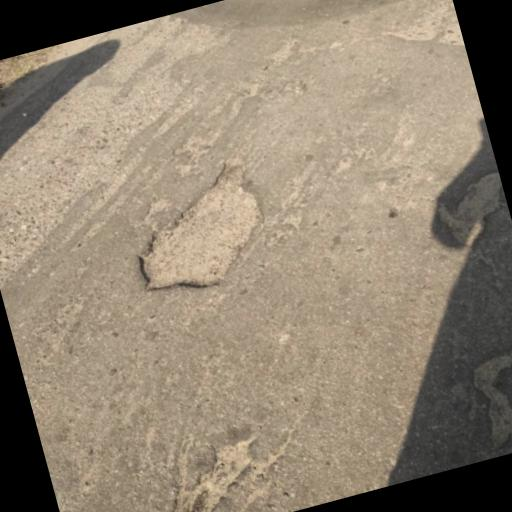pothole: (110, 148, 284, 308), (150, 429, 281, 512)
